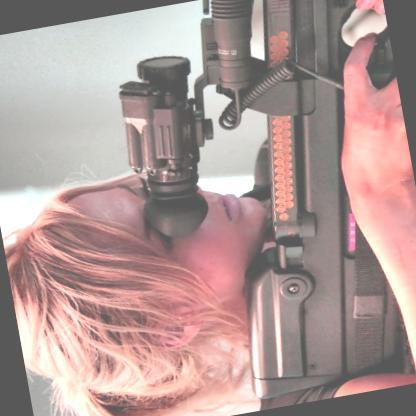rifle: (111, 0, 416, 413)
